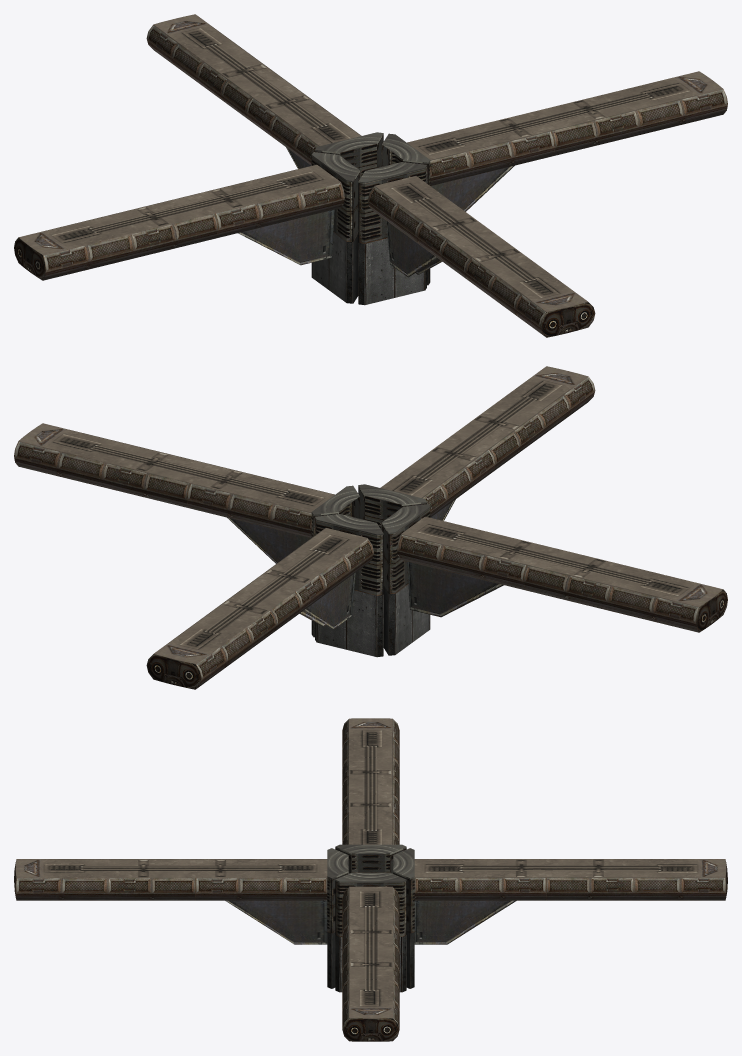
The model's file is OBJ_Rev_Blades.FBX.
The picture shows the model from 3 angles, top to bottom: view 1: azimuth 30°, elevation 25°; view 2: azimuth 150°, elevation 25°; view 3: azimuth 270°, elevation 25°; orthographic projection. The views are drawn at different scales.
Visible parts, largest first — view 1: OBJ_Rev_Blades; view 2: OBJ_Rev_Blades; view 3: OBJ_Rev_Blades.
Boxes of the visible parts, <box> form: OBJ_Rev_Blades: <box>14,14,727,337</box>; OBJ_Rev_Blades: <box>14,366,727,689</box>; OBJ_Rev_Blades: <box>14,718,727,1041</box>.
Bounding box in the file's own units: 14.91 × 2.55 × 14.91.
Materials: 1 (1 with a texture image).
